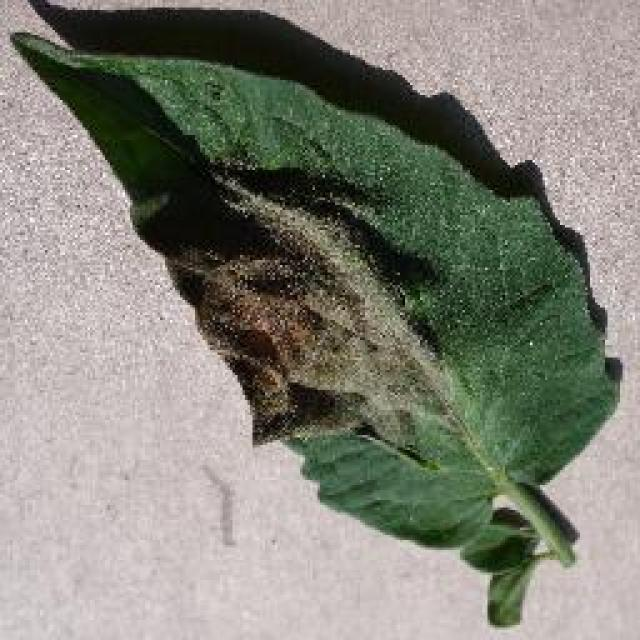Tomato Late Blight: (138, 162, 492, 428)
